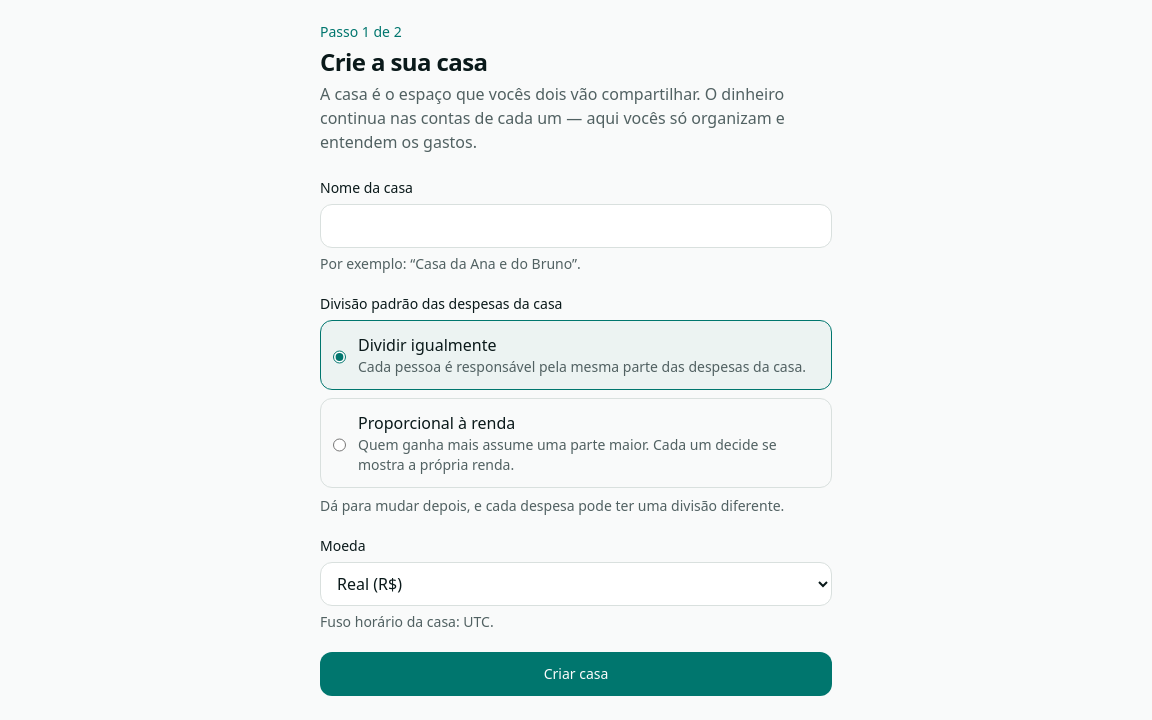
Test: households onboarding › creates the first household and opens it
(page scrolled)
Click the button "Criar casa" at (576, 674), box [320, 652, 832, 696]
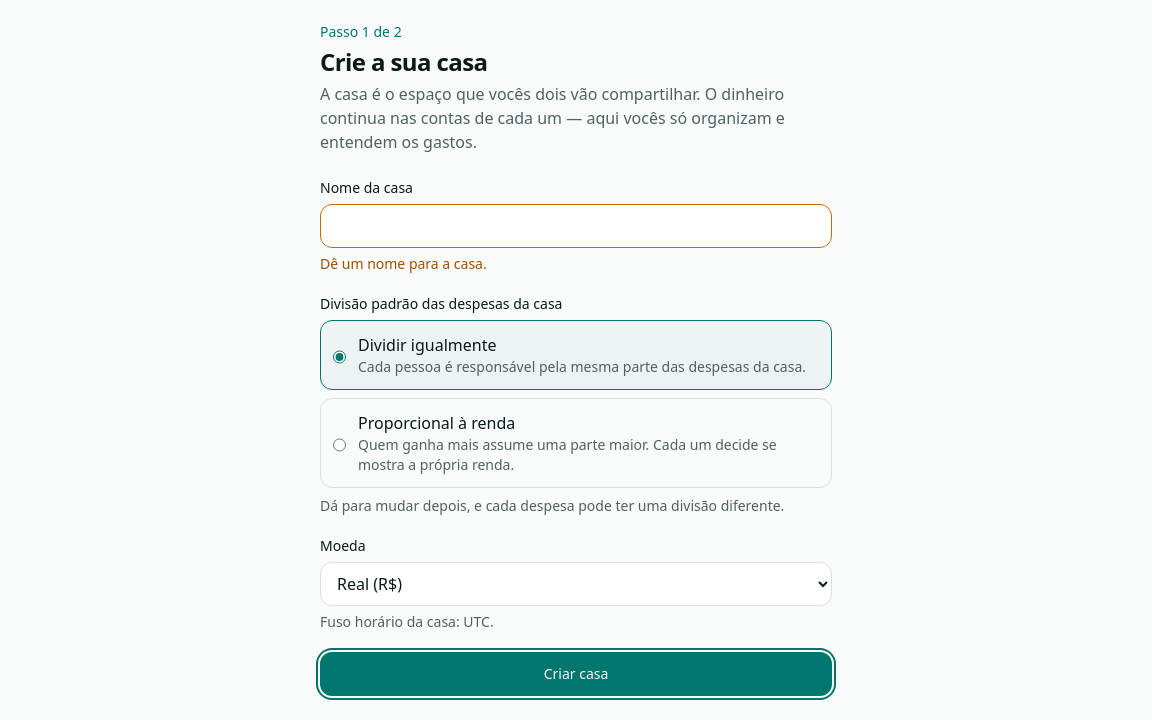
Now the text "Dê um nome para a casa." is shown, box [320, 254, 487, 273]
Type "  Casa da Ana " into the field labelled "Nome da casa" at (576, 226), box [320, 204, 832, 248]
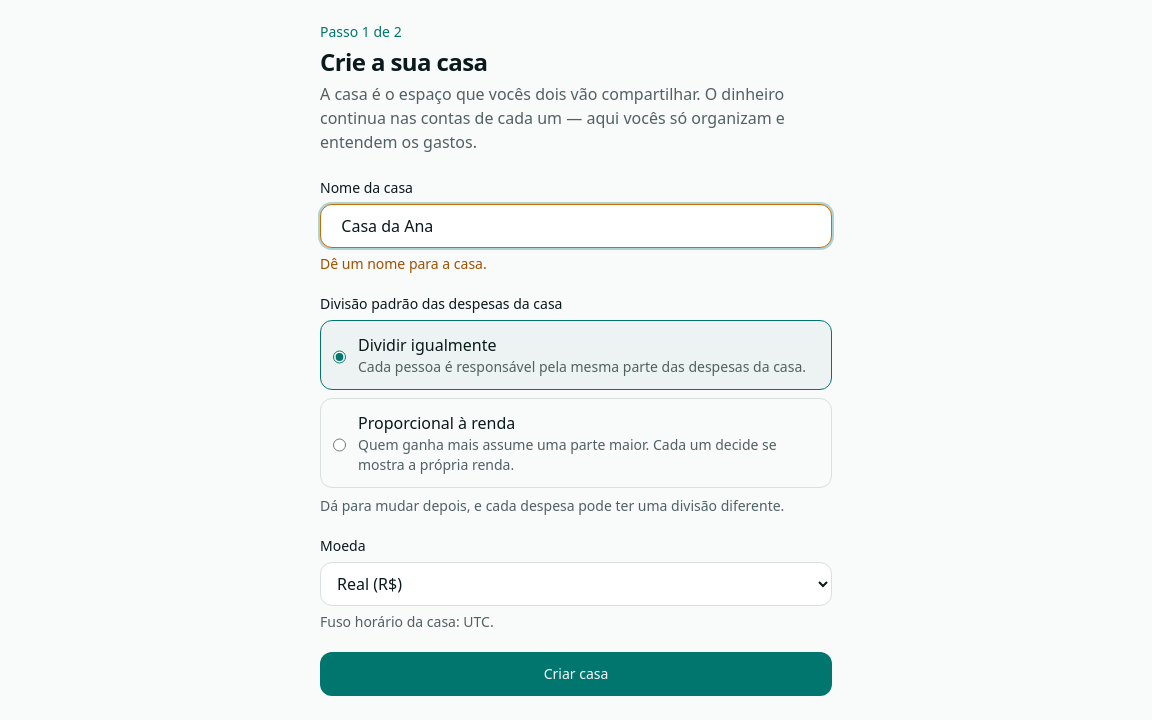
Click the radio button labelled "Proporcional à renda" at (340, 445), box [333, 415, 346, 475]
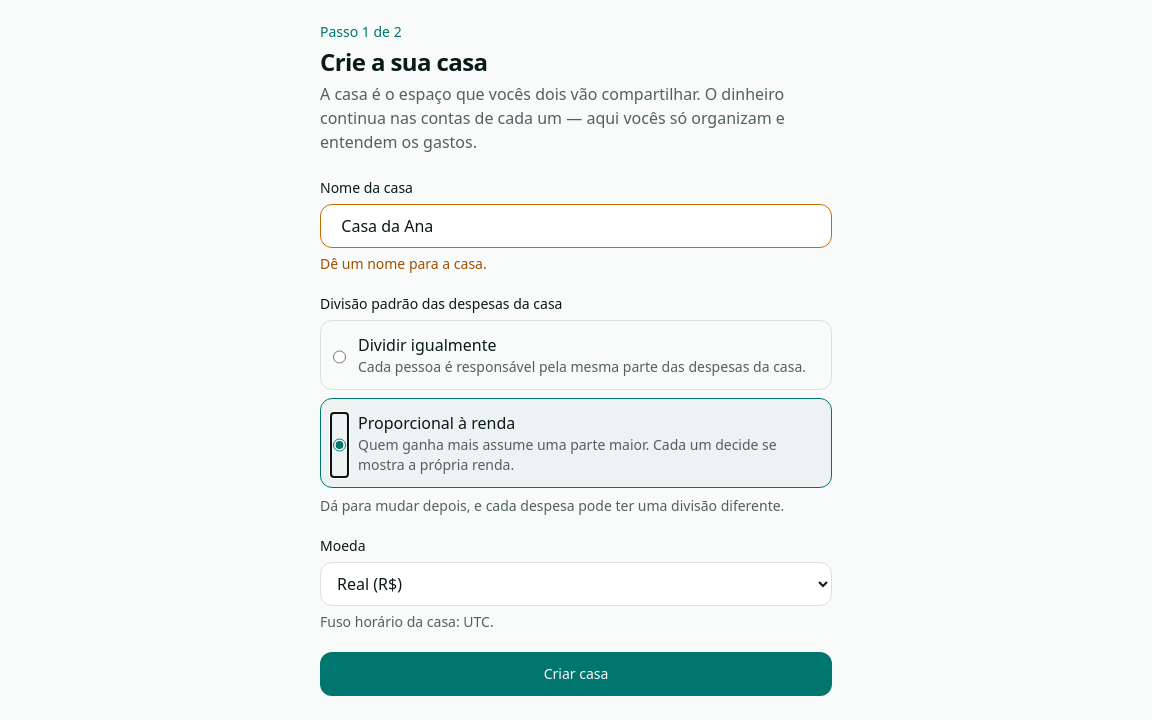
Click the button "Criar casa" at (576, 674), box [320, 652, 832, 696]
(page scrolled)
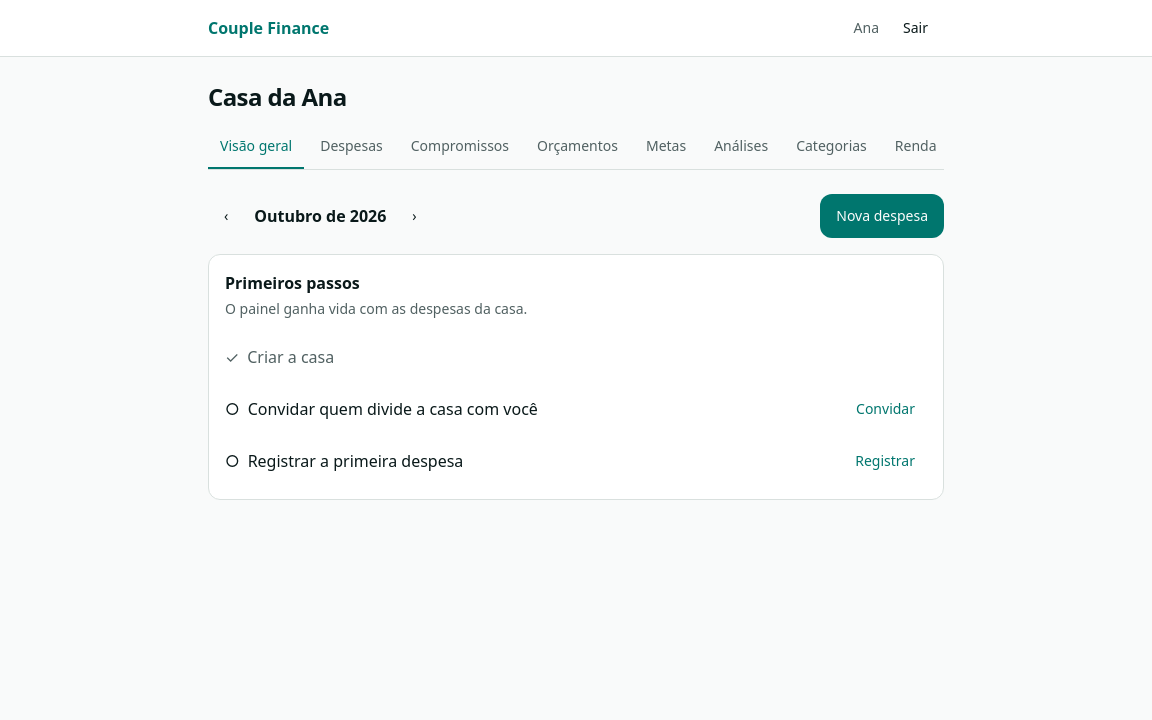
Now the heading "Casa da Ana" is shown, box [208, 80, 347, 113]
